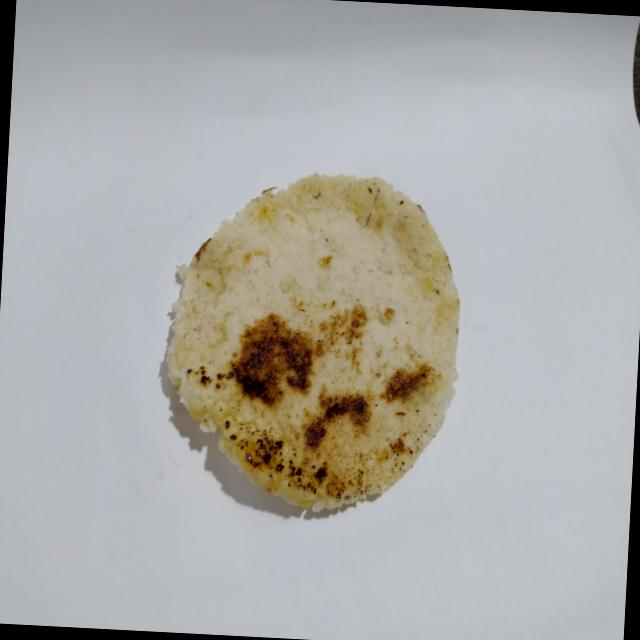Mbeju: (154, 150, 474, 530)
